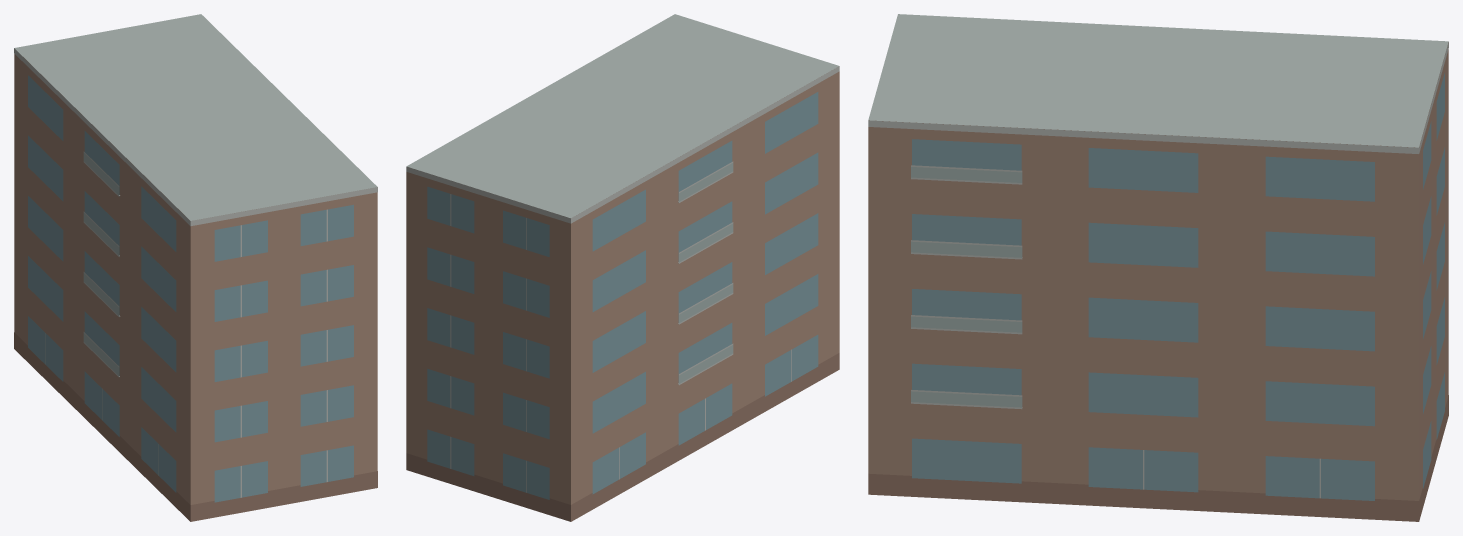
Rendered from survey-upis-32980637.glb.
3 renders of one model, left to right at view 1: azimuth 30°, elevation 25°; view 2: azimuth 150°, elevation 25°; view 3: azimuth 270°, elevation 25°, orthographic. The views are drawn at different scales.
Parts seen in each view (by area): view 1: survey-upis-32980637.tmp; view 2: survey-upis-32980637.tmp; view 3: survey-upis-32980637.tmp.
Boxes of the visible parts, x1=… form: survey-upis-32980637.tmp: x1=14, y1=14, x2=377, y2=521; survey-upis-32980637.tmp: x1=406, y1=14, x2=839, y2=521; survey-upis-32980637.tmp: x1=868, y1=14, x2=1448, y2=521.
Bounding box in the file's own units: 10.73 × 14 × 19.69.
